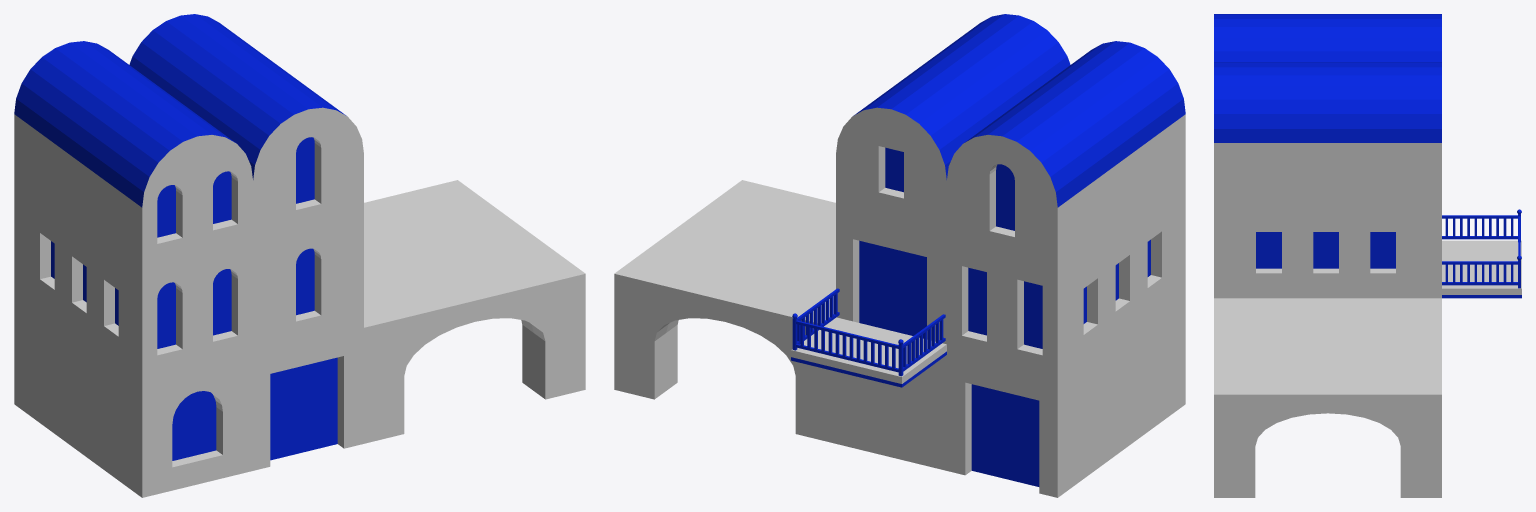
The model's file is SM_Module2_001.fbx.
3 views of the same model, side by side, from view 1: azimuth 30°, elevation 25°; view 2: azimuth 150°, elevation 25°; view 3: azimuth 270°, elevation 25° (orthographic). The views are drawn at different scales.
Parts seen in each view (by area): view 1: BigArches.006, 2WF1WB.003, 2WF3WS2WB.001, 1WF1DB.001, 1WF1WB.009, 1WF3WS1DB.001, 1DF1WS.001, Door.057, Window1.005, Window3.106, Window3.107, Window3.111 (+3 smaller); view 2: 2WF1WB.003, BigArches.006, 2WF3WS2WB.001, 1WF1WB.009, 1WF1DB.001, 1DF1WS.001, Door.058, 1WF3WS1DB.001, Door.059, Balcon.005, ARRAY.160, WIndow2.114 (+5 smaller); view 3: BigArches.006, 1WF1WB.009, 1WF3WS1DB.001, 2WF1WB.003, Balcon.005, WIndow2.113, ARRAY.168, ARRAY.170.
Part boxes in pixels (x1,y1,x2,y2): BigArches.006: (364, 180, 585, 443); 2WF1WB.003: (14, 41, 252, 265); 2WF3WS2WB.001: (14, 172, 252, 381); 1WF1DB.001: (14, 288, 252, 497); 1WF1WB.009: (129, 14, 363, 238); 1WF3WS1DB.001: (253, 212, 363, 354); 1DF1WS.001: (253, 328, 363, 470); Door.057: (270, 357, 337, 460); Window1.005: (172, 391, 216, 460); Window3.106: (296, 137, 314, 203); Window3.107: (296, 248, 314, 315); Window3.111: (213, 269, 231, 335); 2WF1WB.003: (947, 41, 1185, 265); BigArches.006: (614, 180, 835, 443); 2WF3WS2WB.001: (947, 172, 1185, 381); 1WF1WB.009: (836, 14, 1070, 238); 1WF1DB.001: (947, 288, 1185, 497); 1DF1WS.001: (836, 355, 946, 470); Door.058: (971, 384, 1039, 486); 1WF3WS1DB.001: (836, 212, 946, 344); Door.059: (859, 240, 926, 338); Balcon.005: (791, 317, 946, 387); ARRAY.160: (800, 325, 895, 368); WIndow2.114: (1024, 281, 1042, 348); BigArches.006: (1214, 298, 1441, 497); 1WF1WB.009: (1214, 62, 1441, 194); 1WF3WS1DB.001: (1214, 194, 1441, 298); 2WF1WB.003: (1214, 14, 1441, 62); Balcon.005: (1442, 240, 1521, 298); WIndow2.113: (1256, 232, 1395, 268); ARRAY.168: (1445, 264, 1513, 282); ARRAY.170: (1445, 218, 1513, 236).
Size of the model in its own units: 1000 by 750 by 675.
